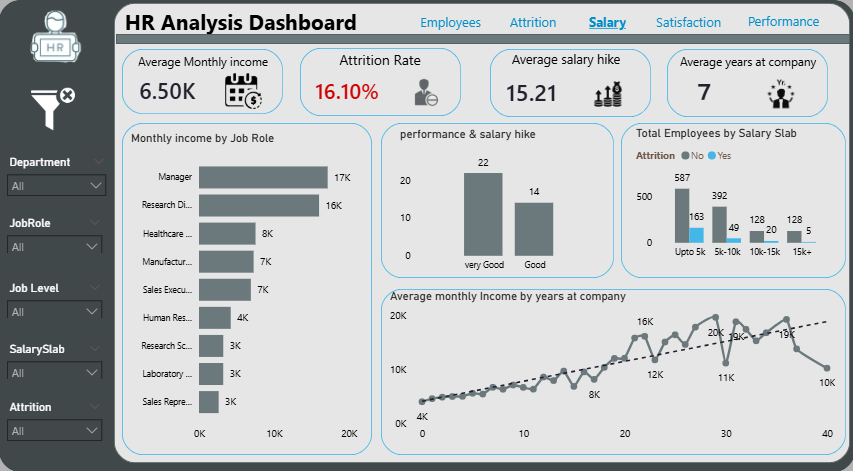

What the dashboard file says about the page in this screenshot:
{"tool":"powerbi","page":{"name":"salary","canvas":[1070,590],"ordinal":2},"visuals":[{"type":"shape","box":[0,0,1070,590],"z":0},{"type":"shape","box":[143.8,3.8,920,575],"z":1000},{"type":"shape","box":[477.5,361.2,581.2,207.5],"z":2000},{"type":"shape","box":[153.8,153.8,312.5,415],"z":3000},{"type":"textbox","title":"  HR  Analytics","box":[137.5,3.8,340,47.5],"z":4000},{"type":"image","box":[11.2,10,117.5,70],"z":5000},{"type":"shape","box":[146.2,42.5,917.5,12.5],"z":6000},{"type":"slicer","fields":{"Values":["dim_job role.JobRole"]},"box":[0,266.2,138.8,50],"z":7000},{"type":"slicer","fields":{"Values":["dim_department.Department"]},"box":[0,190,143.8,56.2],"z":8000},{"type":"shape","box":[835,61.2,201.2,85],"z":9000},{"type":"shape","box":[376.2,60,201.2,85],"z":10000},{"type":"shape","box":[153.8,61.2,201.2,81.2],"z":11000},{"type":"shape","box":[613.8,61.2,201.2,85],"z":12000},{"type":"cardVisual","fields":{"Data":["_measures table.Average Monthly income"]},"box":[146.2,81.2,135,61.2],"z":14000},{"type":"cardVisual","fields":{"Data":["_measures table.Average salary hike"]},"box":[605,82.5,126.2,61.2],"z":15000},{"type":"cardVisual","fields":{"Data":["_measures table.Average years at company"]},"box":[843.8,83.8,75,58.8],"z":16000},{"type":"shape","box":[477.5,153.8,291.2,193.8],"z":17000},{"type":"shape","box":[777.5,153.8,281.2,193.8],"z":18000},{"type":"clusteredColumnChart","title":"Total Employees by Salary Slab","fields":{"Series":["Fact_employee.Attrition"],"Category":["Fact_employee.SalarySlab"],"Y":["_measures table.Total Employees"]},"box":[791.2,158.8,255,173.8],"z":19000},{"type":"columnChart","title":"performance & salary hike","fields":{"Category":["dim_performance rating.Performance Rating Cetegory"],"Y":["_measures table.Average salary hike"]},"box":[496.2,160,261.2,188.8],"z":20000},{"type":"lineChart","title":"Average monthly Income by years at company","fields":{"Category":["Fact_employee.YearsAtCompany"],"Y":["_measures table.Average Monthly income"]},"box":[483.8,362.5,566.2,197.5],"z":21000},{"type":"clusteredBarChart","title":"Monthly income by Job Role","fields":{"Category":["dim_job role.JobRole"],"Y":["_measures table.Average Monthly income"]},"box":[160,165,306.2,395],"z":22000},{"type":"slicer","fields":{"Values":["dim_job level.Job Level Category"]},"box":[0,347.5,138.8,50],"z":23000},{"type":"slicer","fields":{"Values":["Fact_employee.SalarySlab"]},"box":[0,423.8,138.8,50],"z":24000},{"type":"slicer","fields":{"Values":["Fact_employee.Attrition"]},"box":[0,496.2,138.8,72.5],"z":25000},{"type":"image","box":[25,108.8,85,55],"z":26000},{"type":"shape","box":[508.8,10,111.2,35],"z":27000},{"type":"shape","box":[620,10,95,35],"z":28000},{"type":"shape","box":[722.5,10,76.2,35],"z":29000},{"type":"shape","box":[798.8,10,126.2,35],"z":30000},{"type":"shape","box":[925,10,111.2,32.5],"z":31000},{"type":"cardVisual","fields":{"Data":["_measures table.Attrition Rate"]},"box":[366.2,80,142.5,63.8],"z":31001},{"type":"shape","box":[387.5,57.5,177.5,33.8],"z":31002},{"type":"image","box":[491.2,86.2,86.2,50],"z":31003},{"type":"shape","box":[166.2,60,177.5,33.8],"z":31004},{"type":"shape","box":[620,57.5,177.5,33.8],"z":31005},{"type":"shape","box":[847.5,60,177.5,33.8],"z":31006},{"type":"image","box":[267.5,91.2,76.2,45],"z":31007},{"type":"image","box":[716.2,91.2,90,55],"z":31008},{"type":"image","box":[930,91.2,95,55],"z":31009}]}

Visuals, with their boxes in screenshot pixels (x1, y1, x2, y2), scaled from the page's 1070x590 canvas onto the 853x471 screenshot:
shape: [left=0, top=0, right=852, bottom=470]
shape: [left=115, top=3, right=848, bottom=462]
shape: [left=381, top=288, right=844, bottom=454]
shape: [left=123, top=123, right=372, bottom=454]
"  HR  Analytics" textbox: [left=110, top=3, right=381, bottom=41]
image: [left=9, top=8, right=103, bottom=64]
shape: [left=117, top=34, right=848, bottom=44]
slicer - dim_job role.JobRole: [left=0, top=213, right=111, bottom=252]
slicer - dim_department.Department: [left=0, top=152, right=115, bottom=197]
shape: [left=666, top=49, right=826, bottom=117]
shape: [left=300, top=48, right=460, bottom=116]
shape: [left=123, top=49, right=283, bottom=114]
shape: [left=489, top=49, right=650, bottom=117]
cardVisual - _measures table.Average Monthly income: [left=117, top=65, right=224, bottom=114]
cardVisual - _measures table.Average salary hike: [left=482, top=66, right=583, bottom=115]
cardVisual - _measures table.Average years at company: [left=673, top=67, right=732, bottom=114]
shape: [left=381, top=123, right=613, bottom=277]
shape: [left=620, top=123, right=844, bottom=277]
"Total Employees by Salary Slab" clusteredColumnChart: [left=631, top=127, right=834, bottom=266]
"performance & salary hike" columnChart: [left=396, top=128, right=604, bottom=278]
"Average monthly Income by years at company" lineChart: [left=386, top=289, right=837, bottom=447]
"Monthly income by Job Role" clusteredBarChart: [left=128, top=132, right=372, bottom=447]
slicer - dim_job level.Job Level Category: [left=0, top=277, right=111, bottom=317]
slicer - Fact_employee.SalarySlab: [left=0, top=338, right=111, bottom=378]
slicer - Fact_employee.Attrition: [left=0, top=396, right=111, bottom=454]
image: [left=20, top=87, right=88, bottom=131]
shape: [left=406, top=8, right=494, bottom=36]
shape: [left=494, top=8, right=570, bottom=36]
shape: [left=576, top=8, right=637, bottom=36]
shape: [left=637, top=8, right=737, bottom=36]
shape: [left=737, top=8, right=826, bottom=34]
cardVisual - _measures table.Attrition Rate: [left=292, top=64, right=406, bottom=115]
shape: [left=309, top=46, right=450, bottom=73]
image: [left=392, top=69, right=460, bottom=109]
shape: [left=132, top=48, right=274, bottom=75]
shape: [left=494, top=46, right=636, bottom=73]
shape: [left=676, top=48, right=817, bottom=75]
image: [left=213, top=73, right=274, bottom=109]
image: [left=571, top=73, right=643, bottom=117]
image: [left=741, top=73, right=817, bottom=117]
